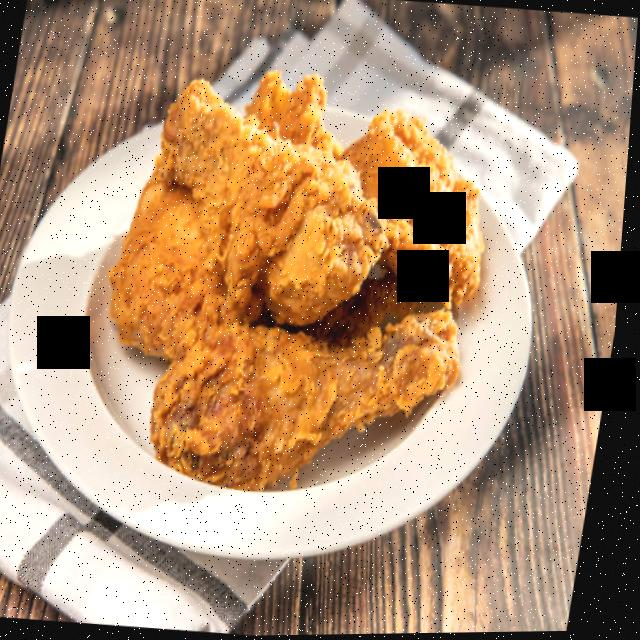Frango: (82, 53, 524, 514)
